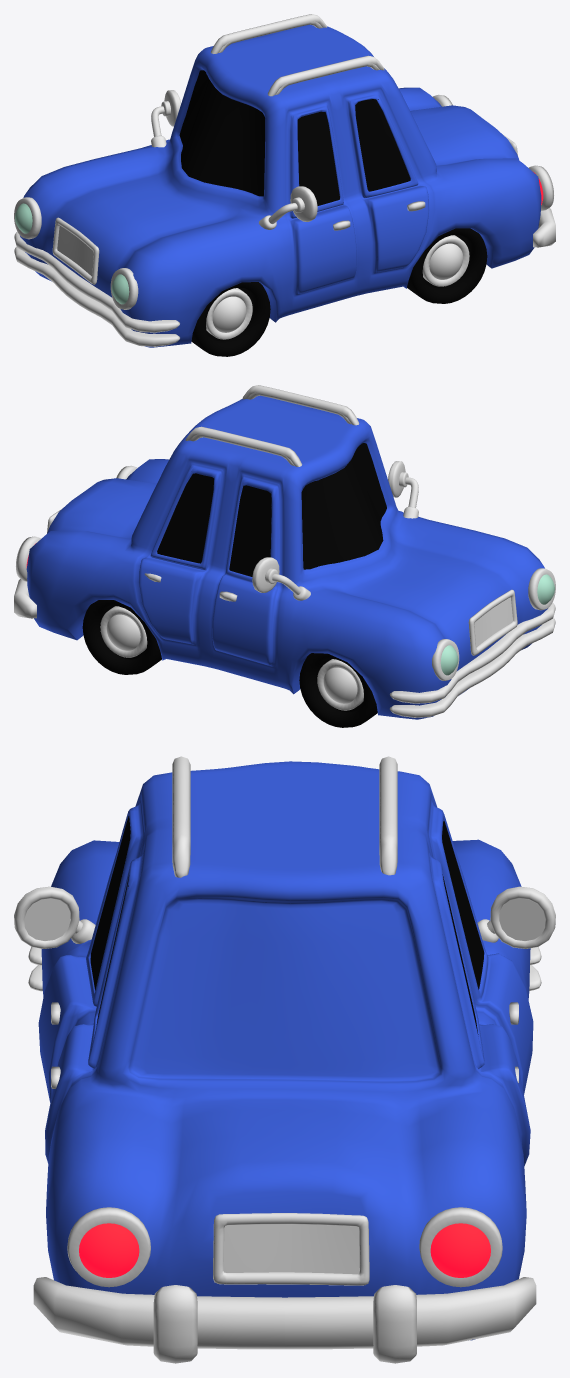
The model's file is cochesbienazul.fbx.
The picture shows the model from 3 angles, top to bottom: view 1: azimuth 30°, elevation 25°; view 2: azimuth 150°, elevation 25°; view 3: azimuth 270°, elevation 25°; orthographic projection. The views are drawn at different scales.
Visible parts, largest first — view 1: Cube, Circle.034, Cube.005, Cube.004, Cube.009, Cube.015, Circle.005, Cube.013, Cube.014, Circle.006, Circle.002, Cube.001 (+2 smaller); view 2: Cube, Circle.034, Cube.005, Cube.004, Cube.009, Cube.015, Circle.005, Cube.014, Cube.013, Circle.006, Circle.002, Cube.001 (+3 smaller); view 3: Cube, Cube.001, Cube.008, Cube.012, Circle.002, Circle.003, Cube.007, Cube.015, Cube.004, Circle.007, Cube.018, Cube.019 (+1 smaller).
Part boxes in pixels (bbox=[...]): Cube: bbox=[20, 24, 541, 347]; Circle.034: bbox=[191, 228, 487, 356]; Cube.005: bbox=[179, 70, 265, 196]; Cube.004: bbox=[297, 99, 410, 205]; Cube.009: bbox=[14, 231, 179, 346]; Cube.015: bbox=[210, 14, 384, 96]; Circle.005: bbox=[14, 197, 138, 309]; Cube.013: bbox=[52, 217, 99, 284]; Cube.014: bbox=[57, 225, 93, 276]; Circle.006: bbox=[15, 203, 129, 304]; Circle.002: bbox=[432, 94, 553, 210]; Cube.001: bbox=[533, 208, 555, 247]; Cube: bbox=[26, 395, 547, 719]; Circle.034: bbox=[82, 600, 377, 727]; Cube.005: bbox=[301, 443, 386, 569]; Cube.004: bbox=[157, 473, 271, 576]; Cube.009: bbox=[390, 602, 555, 717]; Cube.015: bbox=[185, 385, 359, 466]; Circle.005: bbox=[432, 568, 555, 680]; Cube.014: bbox=[474, 597, 512, 647]; Cube.013: bbox=[468, 589, 517, 655]; Circle.006: bbox=[440, 574, 554, 675]; Circle.002: bbox=[16, 465, 137, 581]; Cube.001: bbox=[14, 579, 36, 618]; Cube: bbox=[38, 761, 533, 1340]; Cube.001: bbox=[33, 1277, 536, 1349]; Cube.008: bbox=[223, 1224, 359, 1274]; Cube.012: bbox=[153, 1285, 416, 1363]; Circle.002: bbox=[67, 1207, 502, 1287]; Circle.003: bbox=[79, 1223, 490, 1277]; Cube.007: bbox=[213, 1213, 369, 1285]; Cube.015: bbox=[172, 756, 397, 877]; Cube.004: bbox=[90, 816, 484, 1034]; Circle.007: bbox=[24, 898, 545, 940]; Cube.018: bbox=[490, 886, 555, 948]; Cube.019: bbox=[14, 886, 79, 948].
Bounding box in the file's own units: 490 × 249 × 281.
